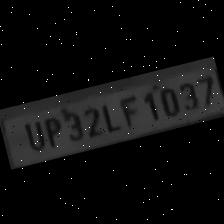0: (154, 82, 182, 119)
1: (136, 86, 162, 124)
2: (78, 100, 105, 140)
3: (58, 104, 85, 144), (176, 76, 200, 112)
7: (191, 70, 219, 107)
F: (113, 90, 142, 130)
L: (95, 96, 122, 134)
P: (38, 111, 65, 150)
U: (18, 116, 46, 152)
